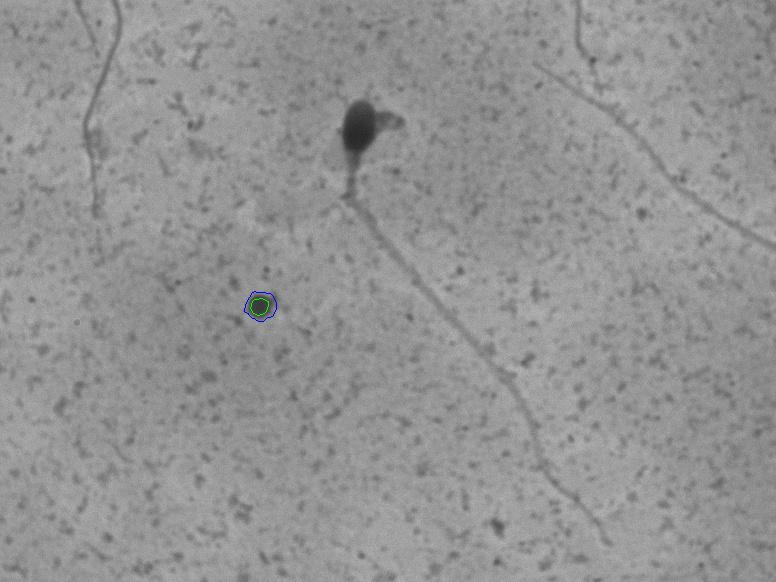Normal: (326, 83, 627, 556)
